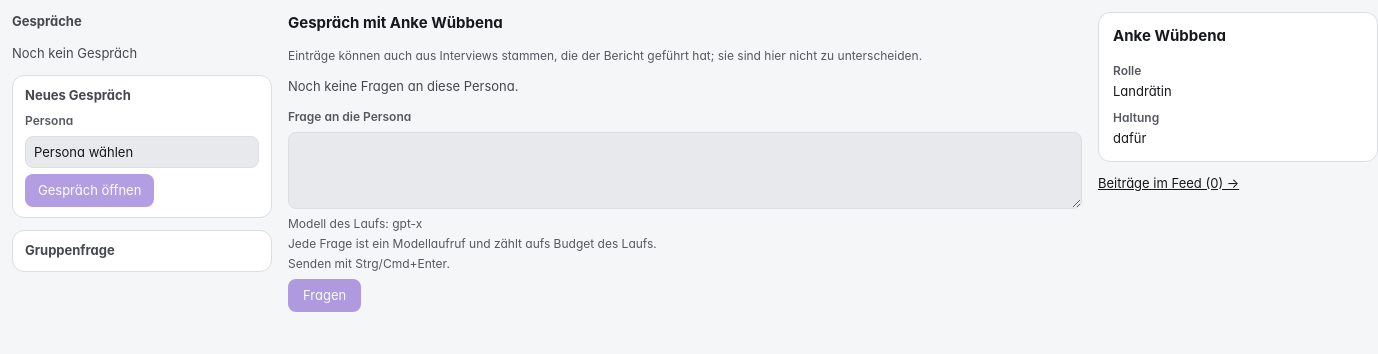
Test: RunInterviewsView › 503 zeigt "nicht verfügbar" mit Grund und sperrt das Eingabefeld
In the text box with test id "ask-input": (685, 170) x1=288 y1=132 x2=1082 y2=208, type "Hallo"
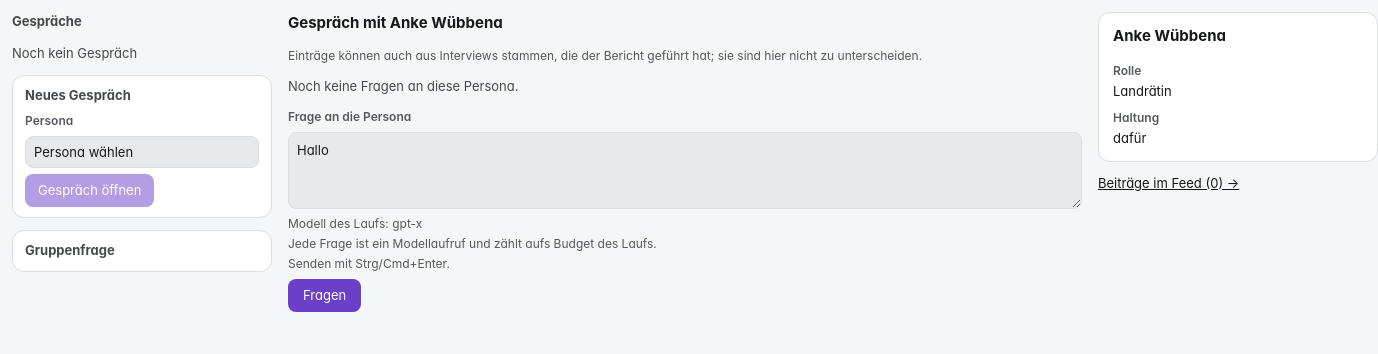
Submit the form with test id "ask-form", box x1=288 y1=108 x2=1082 y2=312
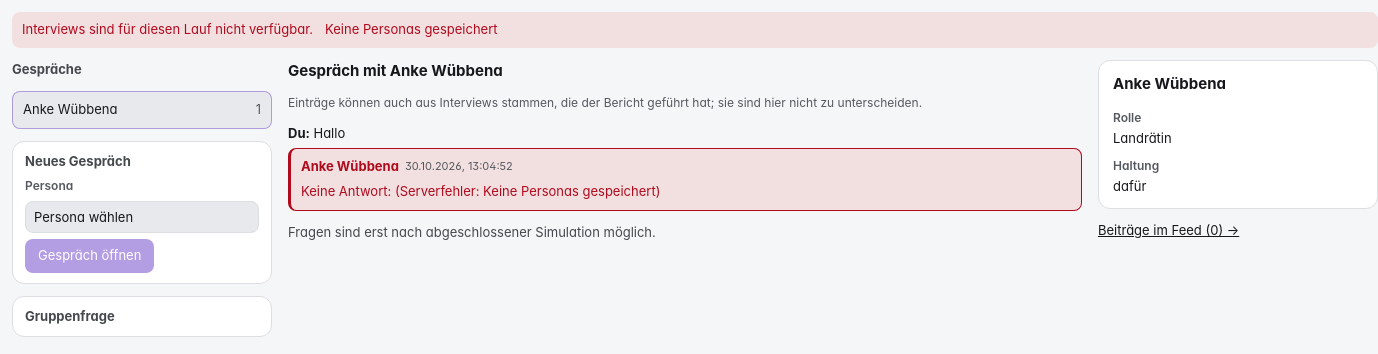
Expected: the message with test id "interviews-unavailable" shows "Keine Personas gespeichert", x1=325 y1=21 x2=498 y2=37
